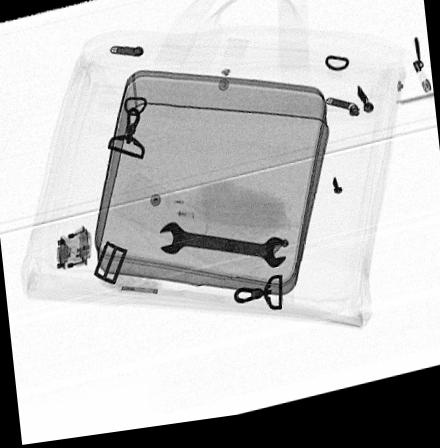Wrench: (157, 224, 290, 277)
